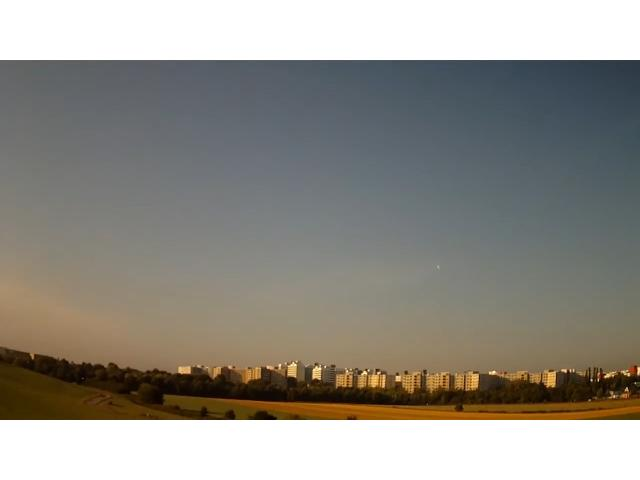Anti-Drone: (433, 260, 447, 270)
